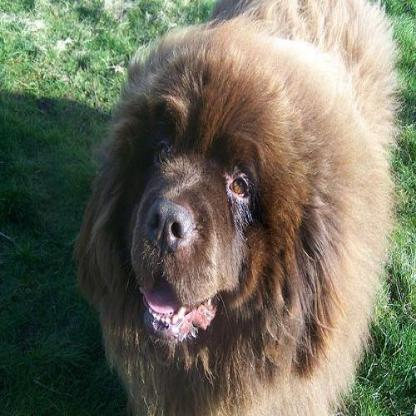Newfoundland: (71, 0, 405, 413)
